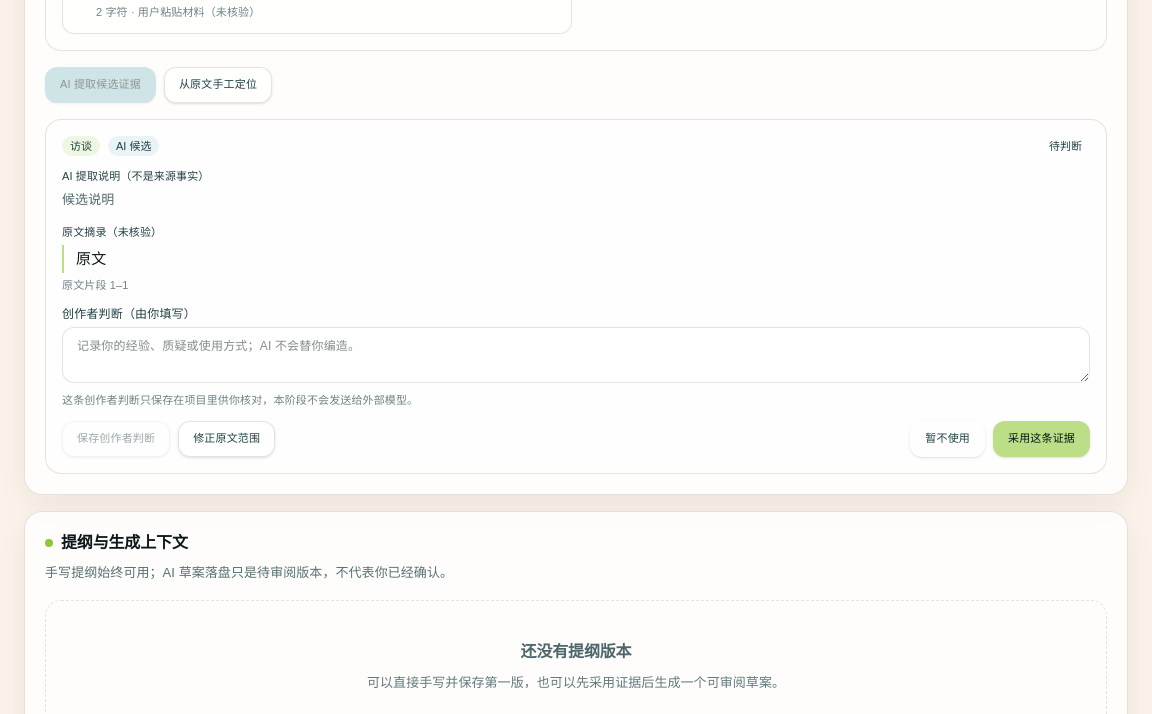
Scenario: ProjectWorkspace › 证据创作者判断草稿也接入页面 blocker
(page scrolled)
Type "我的核对意见" into the text box labelled "创作者判断（由你填写）".
click(576, 355); type("我的核对意见")  # box [62, 327, 1090, 383]
(page scrolled)
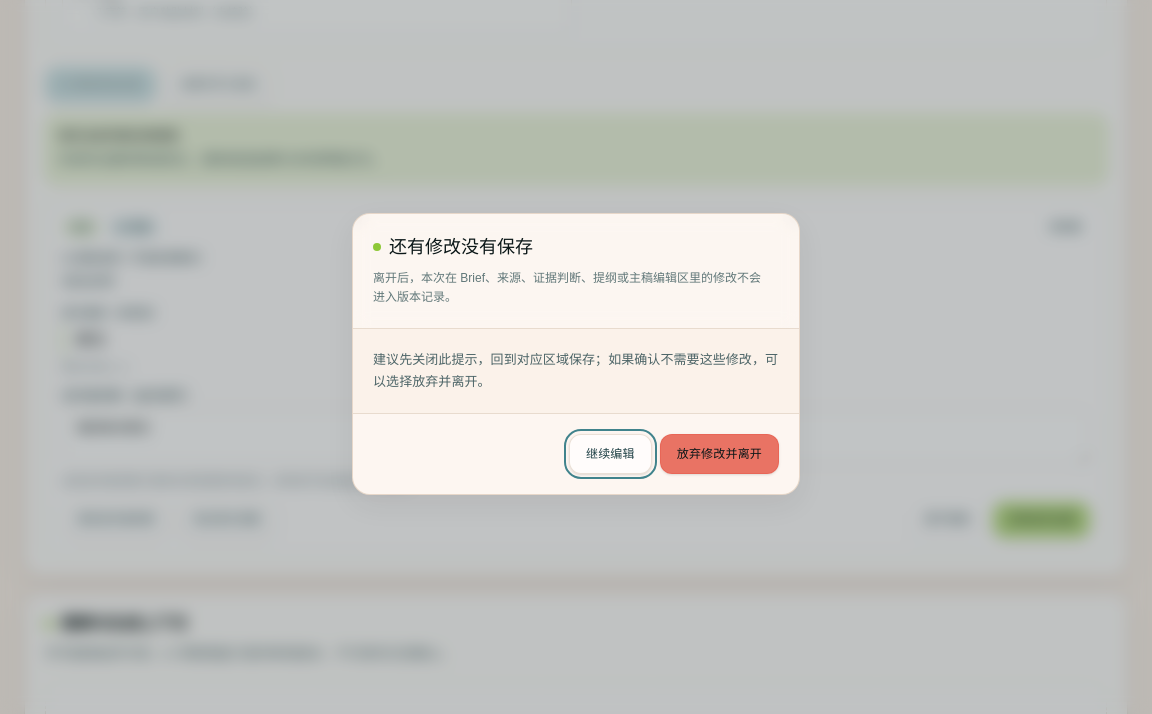
Expected: the dialog "还有修改没有保存" is shown, [352, 213, 800, 495]
